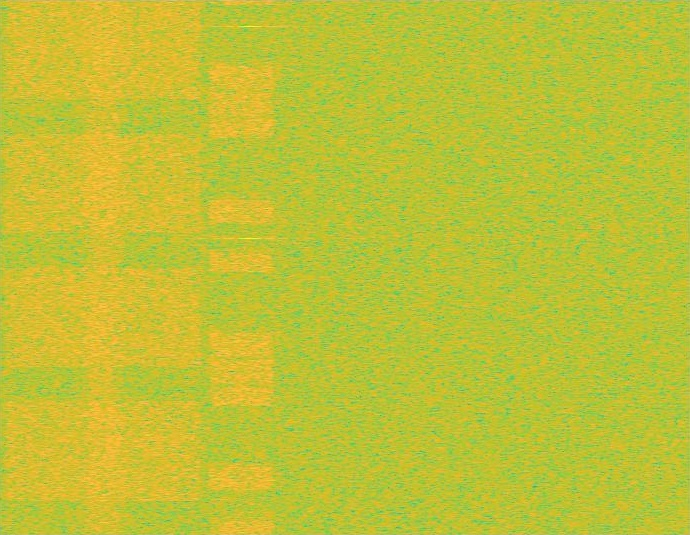5G: (0, 0, 207, 534)
DSSS: (80, 0, 127, 534)
LTE: (207, 0, 276, 534)
Radar: (243, 0, 257, 534)
